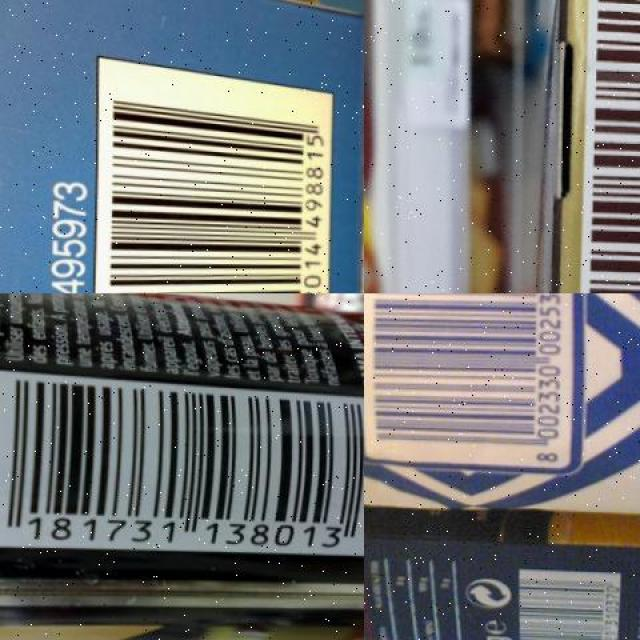Barcode: (0, 368, 364, 553), (93, 52, 336, 293), (367, 293, 573, 463), (581, 0, 639, 293)
